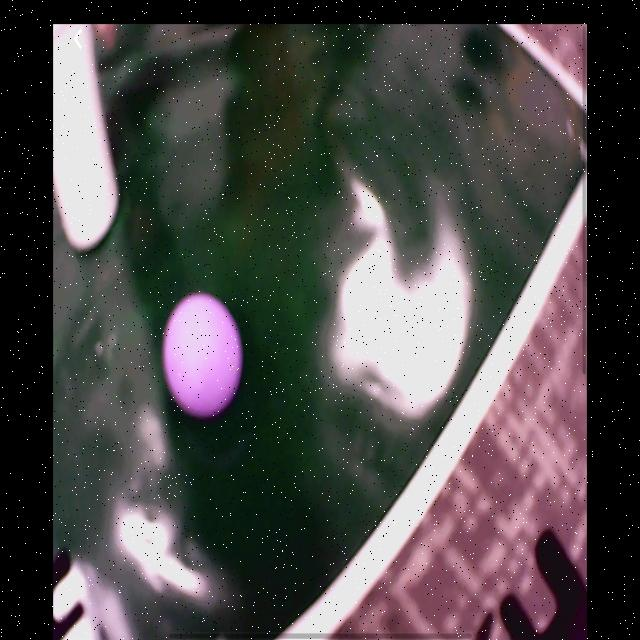ball: (162, 294, 242, 415)
